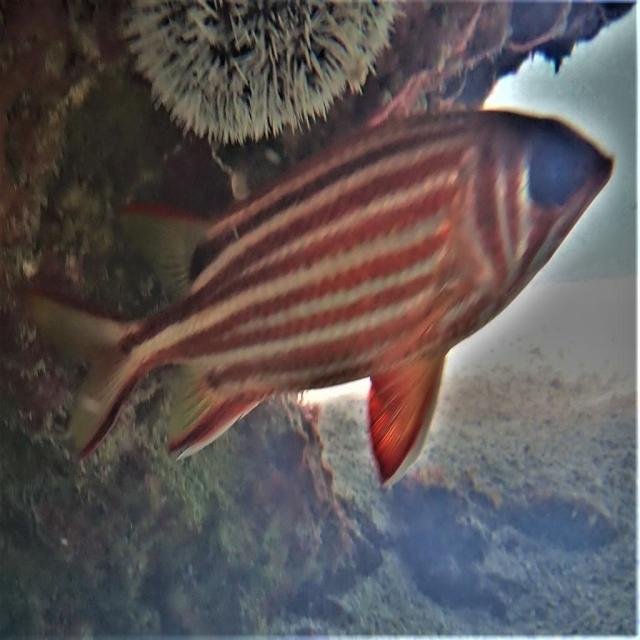Asker Baligi: (22, 104, 616, 488)
